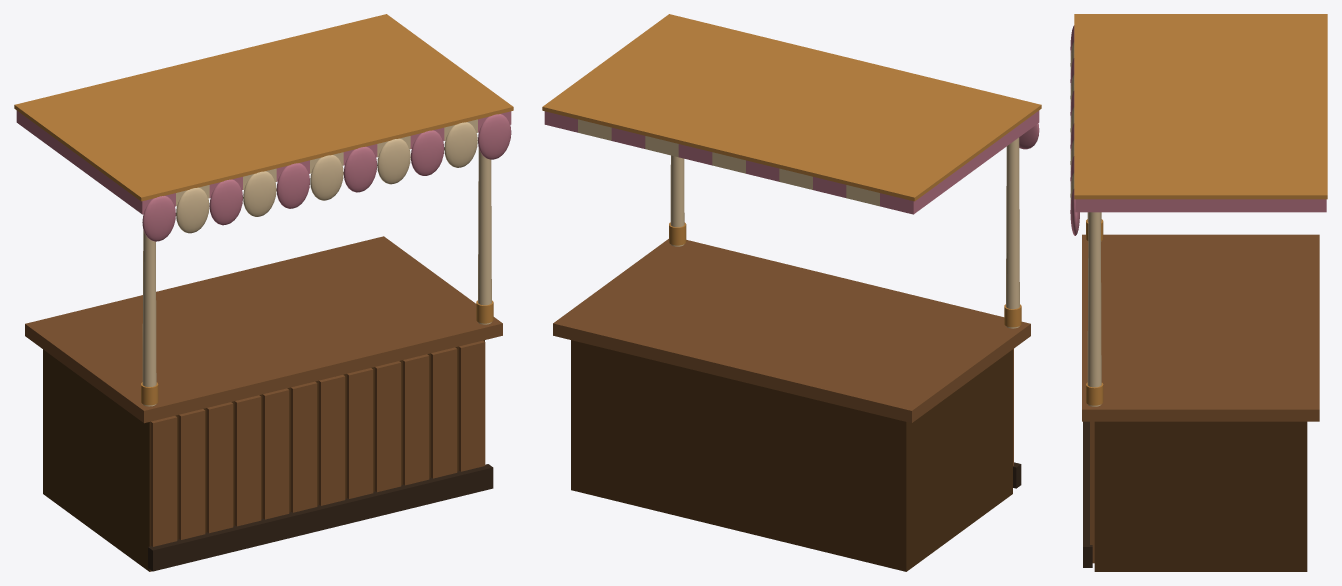
The model's file is mia-stall.glb.
The picture shows the model from 3 angles, left to right: view 1: azimuth 30°, elevation 25°; view 2: azimuth 150°, elevation 25°; view 3: azimuth 270°, elevation 25°; orthographic projection.
Parts seen in each view (by area): view 1: Body_oak, Body_brass, Body_wood, Body_ivory, Body_cake-rose, Body_grain; view 2: Body_wood, Body_brass, Body_oak, Body_ivory, Body_cake-rose; view 3: Body_brass, Body_oak, Body_wood, Body_cake-rose, Body_ivory, Body_grain.
Boxes of the visible parts, x1,y1,x2,y2 form: Body_oak: (25,236,502,546); Body_brass: (14,14,513,405); Body_wood: (43,340,484,571); Body_ivory: (142,119,491,406); Body_cake-rose: (16,110,511,241); Body_grain: (148,464,493,571); Body_wood: (571,340,1012,571); Body_brass: (542,14,1041,327); Body_oak: (553,239,1030,465); Body_ivory: (578,119,1019,328); Body_cake-rose: (544,110,1039,214); Body_brass: (1074,14,1327,405); Body_oak: (1082,234,1319,563); Body_wood: (1094,421,1307,571); Body_cake-rose: (1070,25,1326,235); Body_ivory: (1070,42,1101,406); Body_grain: (1083,421,1092,567).
Bounding box in the file's own units: 2.22 × 2.2 × 1.33.
